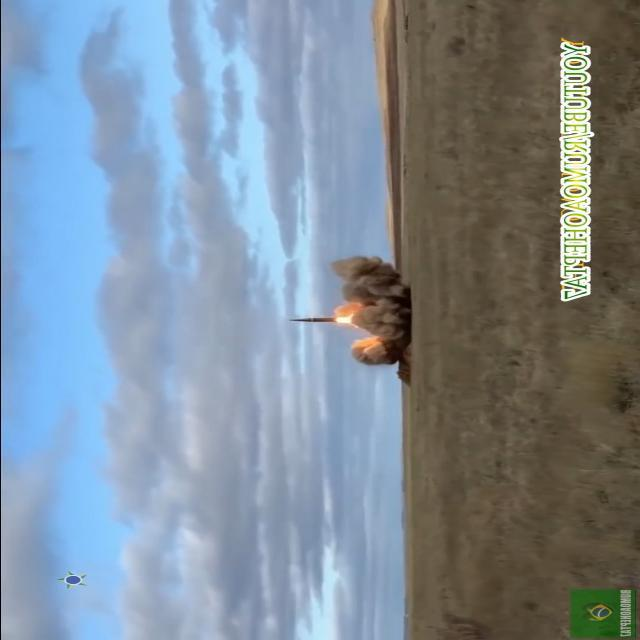Missile: (280, 315, 354, 327)
